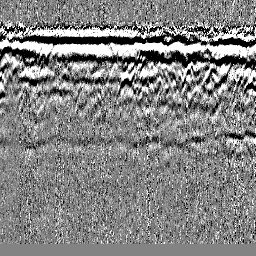cavity: (114, 72, 138, 104)
